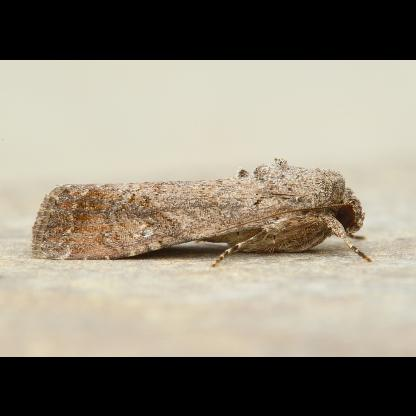Fall Armyworm Moth: (28, 155, 376, 269)
